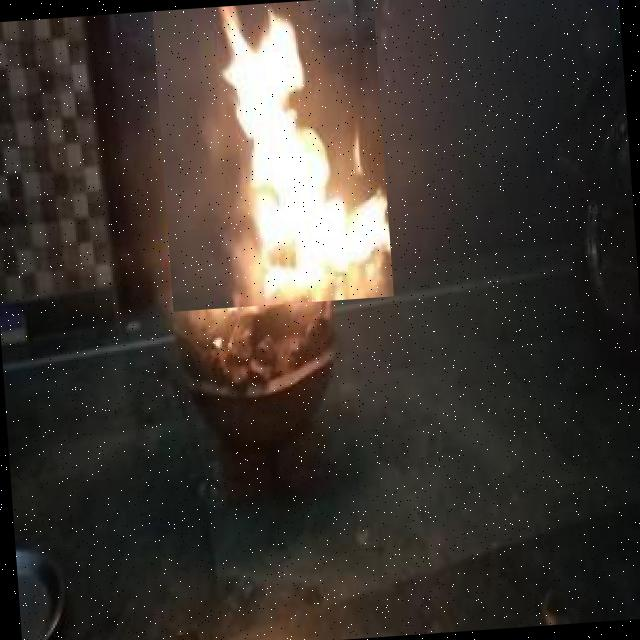fire: (152, 0, 393, 311)
